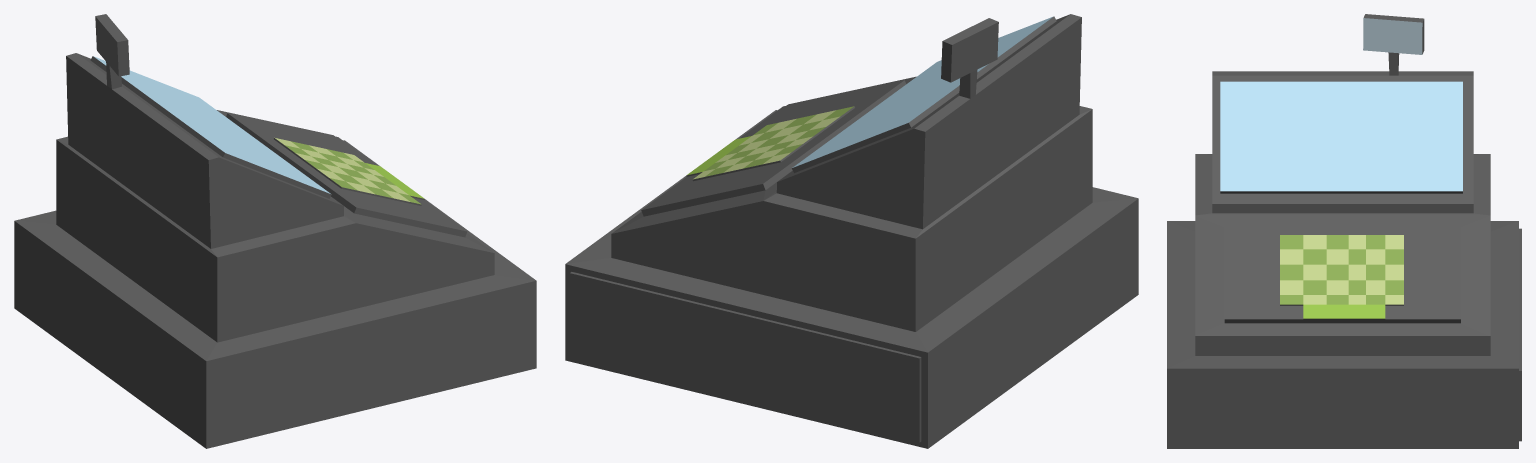
The model's file is CashRegister.fbx.
3 views of the same model, side by side, from view 1: azimuth 30°, elevation 25°; view 2: azimuth 150°, elevation 25°; view 3: azimuth 270°, elevation 25° (orthographic). The views are drawn at different scales.
Parts seen in each view (by area): view 1: Cube; view 2: Cube; view 3: Cube.
Part boxes in pixels (box(x1,y1,x2,y2)): Cube: box(14, 14, 536, 448); Cube: box(565, 14, 1138, 448); Cube: box(1167, 14, 1521, 448).
Size of the model in its own units: 395 by 369 by 401.
1 material, 1 textured.
